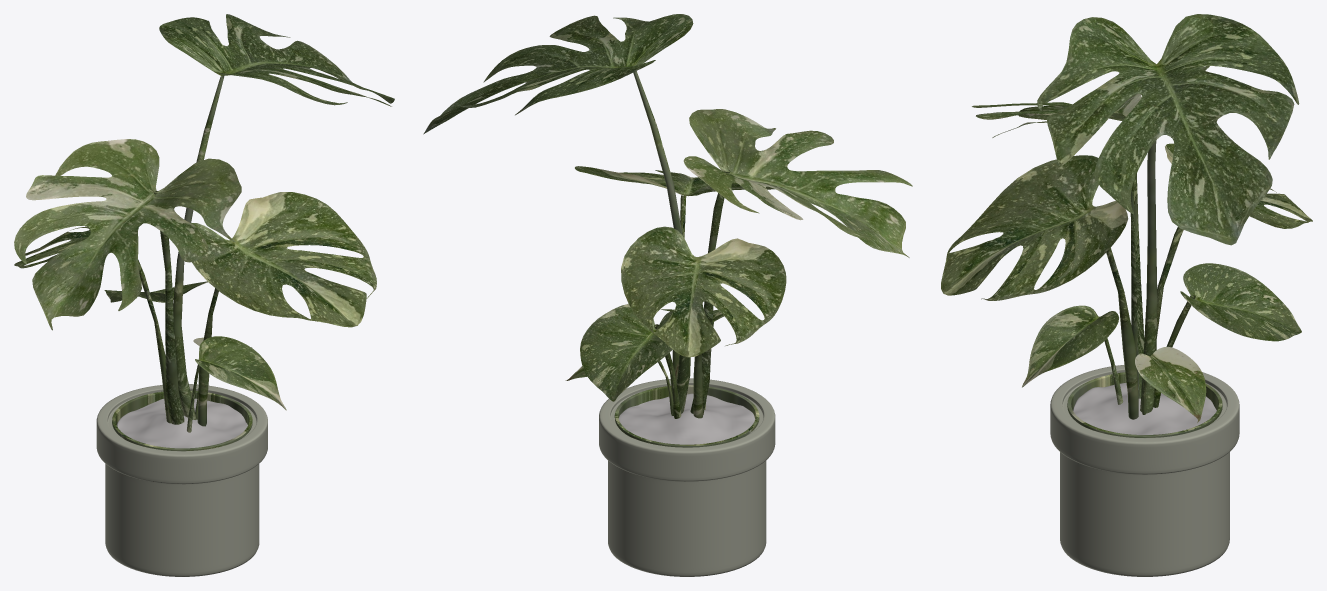
Rendered from plant-monstera-pot.glb.
3 renders of one model, left to right at view 1: azimuth 30°, elevation 25°; view 2: azimuth 150°, elevation 25°; view 3: azimuth 270°, elevation 25°, orthographic. The views are drawn at different scales.
Visible parts, largest first — view 1: Vase, Leaf2.002, Leaf1.002, Leaf6.002, Soil, Leaf4, stem6, Stem2, Plastic pot, Leaf1.003, stem1, stem1.001 (+1 smaller); view 2: Vase, Leaf1.003, Leaf2.002, Leaf6.002, Leaf5, Soil, Plastic pot, stem6, Leaf1.002, Stem2; view 3: Leaf6.002, Vase, Leaf1.002, Leaf5, Soil, Leaf4, Leaf3, stem6, Stem2, stem1, Plastic pot, Leaf2.002 (+2 smaller).
Part boxes in pixels (x1,y1,x2,y2): Vase: [96, 384, 267, 576]; Leaf2.002: [14, 139, 241, 330]; Leaf1.002: [191, 192, 376, 327]; Leaf6.002: [159, 14, 394, 106]; Soil: [116, 398, 247, 448]; Leaf4: [195, 336, 286, 410]; stem6: [173, 76, 224, 419]; Stem2: [154, 191, 184, 424]; Plastic pot: [112, 390, 252, 451]; Leaf1.003: [14, 223, 142, 268]; stem1: [197, 288, 218, 426]; stem1.001: [138, 259, 171, 423]; Vase: [599, 378, 775, 576]; Leaf1.003: [621, 226, 786, 357]; Leaf2.002: [683, 109, 912, 257]; Leaf6.002: [423, 14, 693, 134]; Leaf5: [580, 303, 673, 401]; Soil: [618, 393, 755, 444]; Plastic pot: [614, 385, 759, 447]; stem6: [633, 71, 690, 415]; Leaf1.002: [575, 166, 774, 196]; Stem2: [690, 170, 730, 414]; Leaf6.002: [1037, 14, 1299, 245]; Vase: [1050, 364, 1239, 576]; Leaf1.002: [941, 155, 1128, 300]; Leaf5: [1180, 263, 1301, 341]; Soil: [1073, 382, 1216, 434]; Leaf4: [1022, 305, 1118, 387]; Leaf3: [1135, 346, 1206, 422]; stem6: [1140, 141, 1157, 413]; Stem2: [1130, 173, 1144, 398]; stem1: [1106, 247, 1138, 419]; Plastic pot: [1067, 372, 1222, 437]; Leaf2.002: [972, 65, 1209, 137].
Bounding box in the file's own units: 0.7748 × 0.919 × 0.5785.
2 materials, 2 textured.
